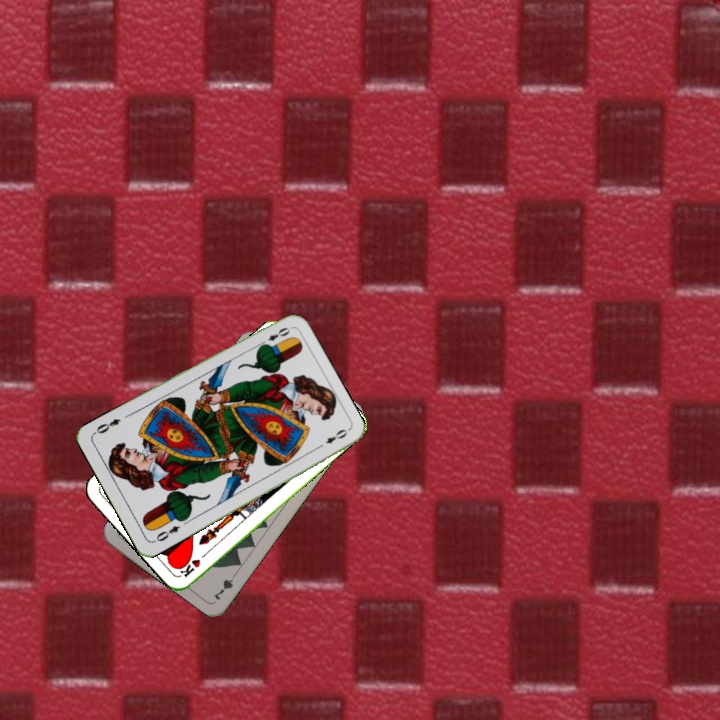EO: (256, 323, 293, 349), (150, 522, 183, 545)
G7: (209, 567, 240, 603)
HK: (175, 547, 211, 580)
